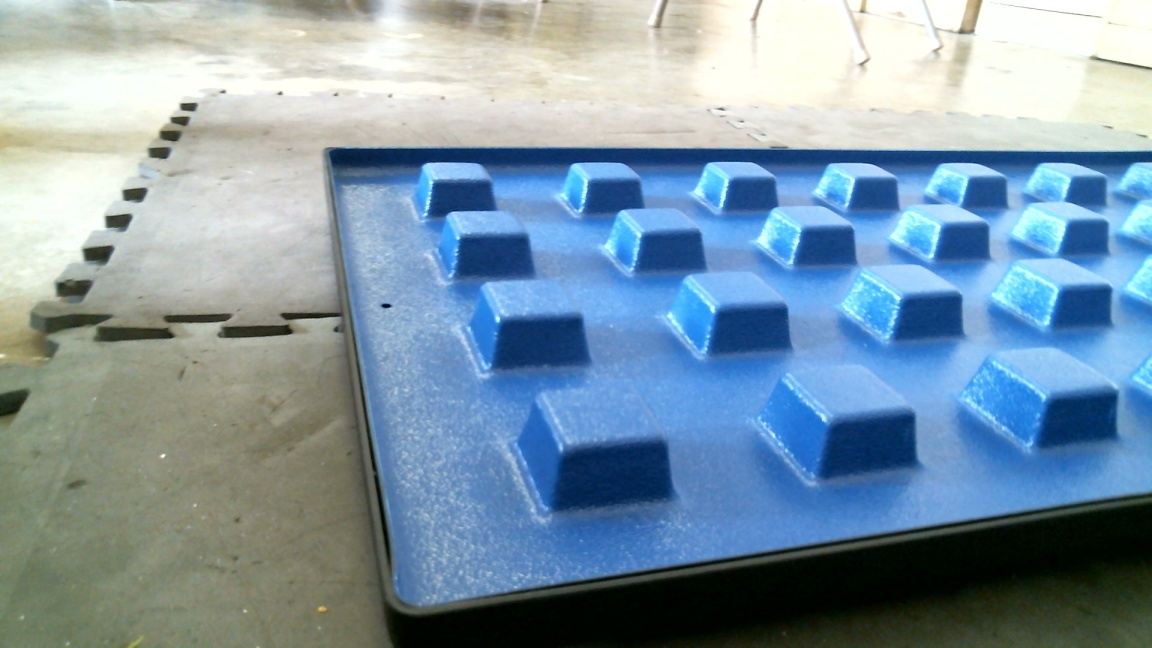blue_foundation: (318, 144, 1130, 648)
